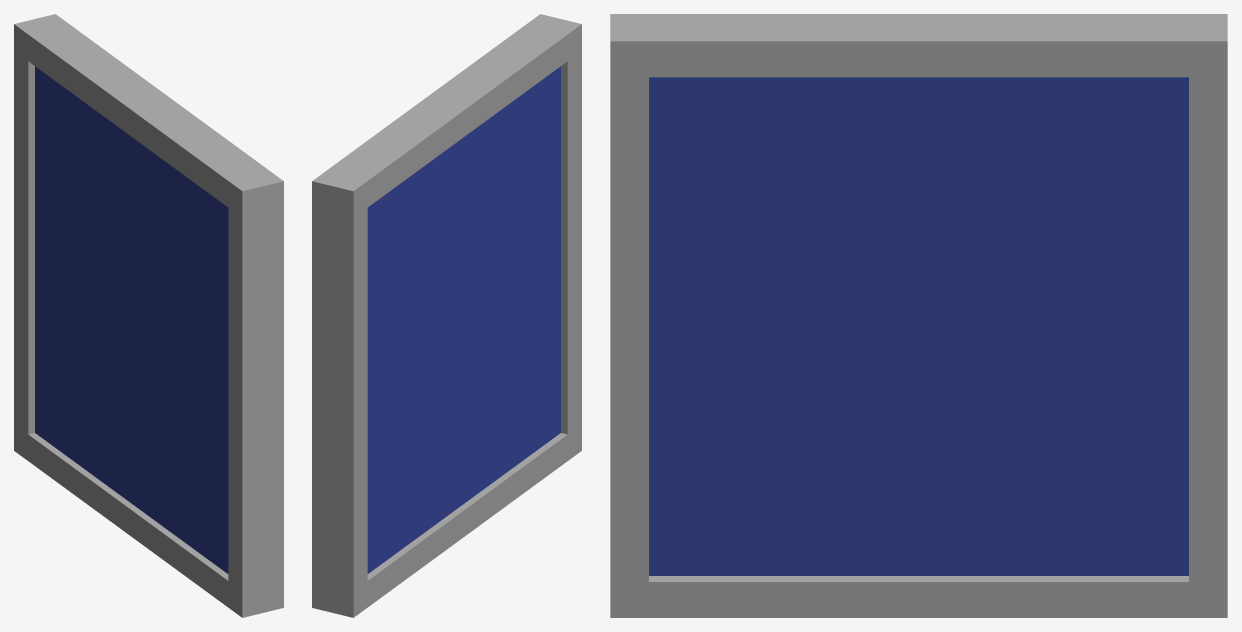
Rendered from glass_for_middle_wall.fbx.
The picture shows the model from 3 angles, left to right: view 1: azimuth 30°, elevation 25°; view 2: azimuth 150°, elevation 25°; view 3: azimuth 270°, elevation 25°; orthographic projection. The views are drawn at different scales.
Parts seen in each view (by area): view 1: pCube3; view 2: pCube3; view 3: pCube3.
Boxes of the visible parts, left/top/right/bottom form: pCube3: left=14, top=14, right=283, bottom=617; pCube3: left=312, top=14, right=581, bottom=617; pCube3: left=610, top=14, right=1227, bottom=617.
Size of the model in its own units: 21.55 by 212 by 206.
